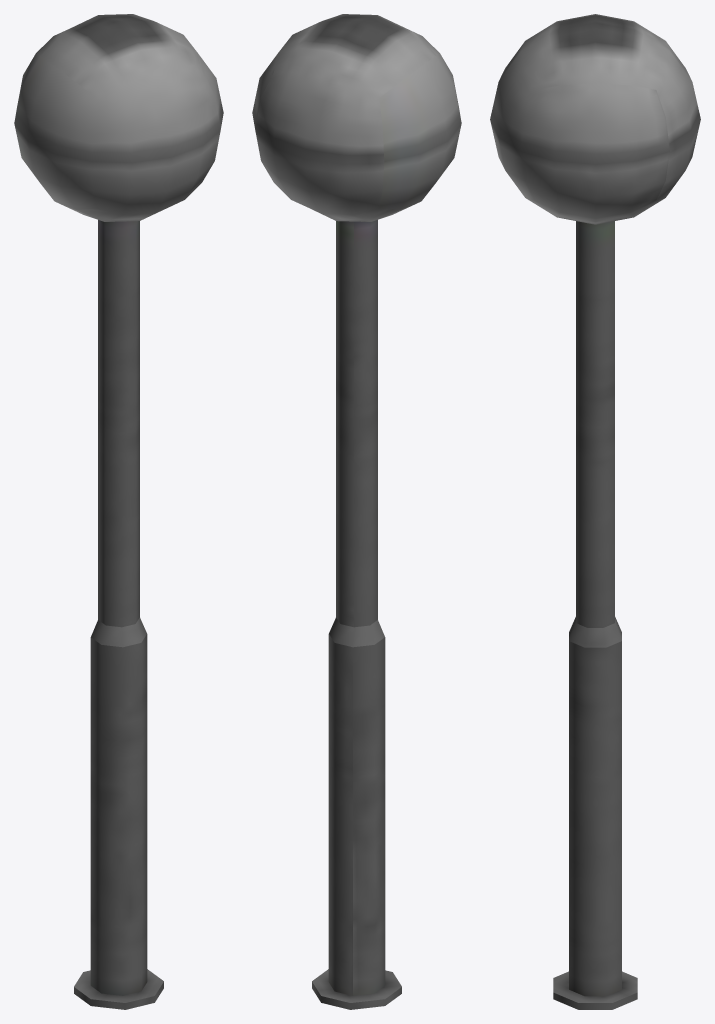
The model's file is lamp_round.glb.
3 views of the same model, side by side, from view 1: azimuth 30°, elevation 25°; view 2: azimuth 150°, elevation 25°; view 3: azimuth 270°, elevation 25° (orthographic).
Parts seen in each view (by area): view 1: Lamp_Post_Round; view 2: Lamp_Post_Round; view 3: Lamp_Post_Round.
Boxes of the visible parts, x1,y1,x2,y2 form: Lamp_Post_Round: [14, 14, 223, 1009]; Lamp_Post_Round: [252, 14, 461, 1009]; Lamp_Post_Round: [490, 14, 700, 1009].
Size of the model in its own units: 0.7012 by 3.55 by 0.7012.
Materials: 1 (1 with a texture image).
